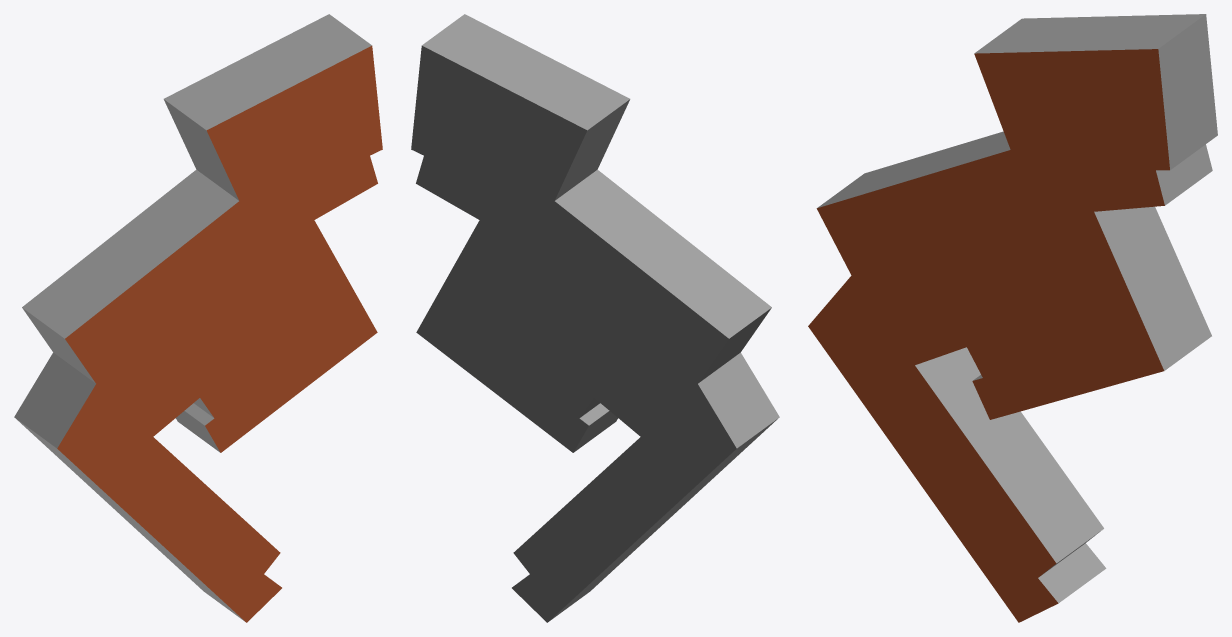
The model's file is construction_5690_assumed_A_Casa_h6m.obj.
3 views of the same model, side by side, from view 1: azimuth 30°, elevation 25°; view 2: azimuth 150°, elevation 25°; view 3: azimuth 330°, elevation 25° (orthographic). The views are drawn at different scales.
Visible parts, largest first — view 1: construction_5690_assumed_A_Casa; view 2: construction_5690_assumed_A_Casa; view 3: construction_5690_assumed_A_Casa.
Part boxes in pixels (x1,y1,x2,y2): construction_5690_assumed_A_Casa: (14,14,382,622); construction_5690_assumed_A_Casa: (411,14,779,622); construction_5690_assumed_A_Casa: (808,14,1217,622).
Bounding box in the file's own units: 26.23 × 42.08 × 6.
